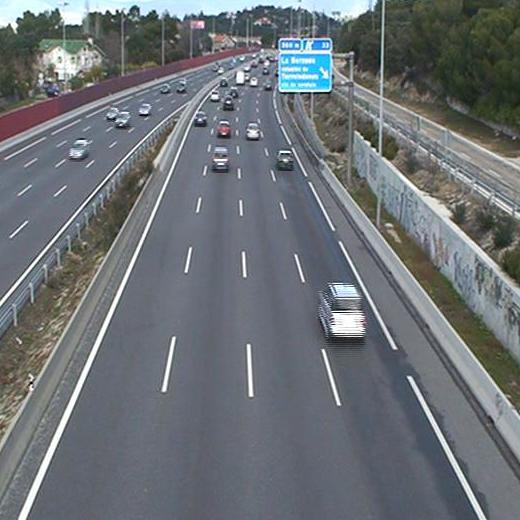car: (320, 283, 366, 337), (212, 146, 229, 171), (276, 149, 295, 170), (216, 121, 232, 138), (246, 121, 261, 139), (192, 111, 207, 126), (222, 96, 234, 109), (209, 88, 220, 102)
van: (235, 71, 245, 87)
